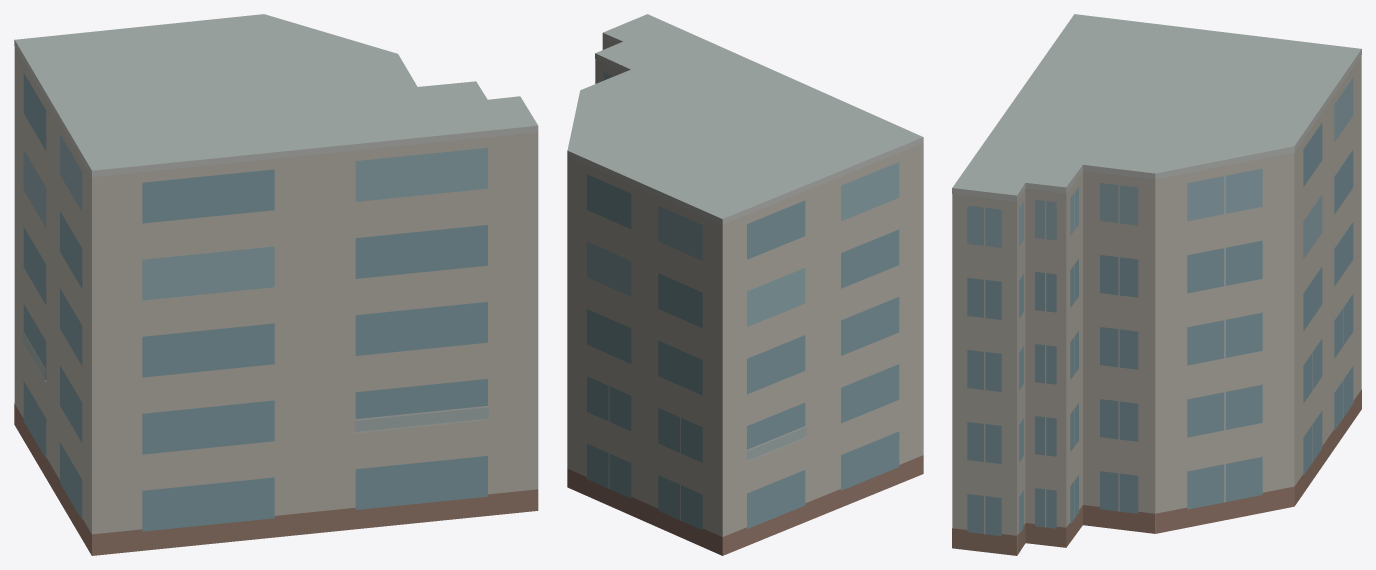
Rendered from survey-upis-32880229.glb.
The picture shows the model from 3 angles, left to right: view 1: azimuth 30°, elevation 25°; view 2: azimuth 150°, elevation 25°; view 3: azimuth 270°, elevation 25°; orthographic projection. The views are drawn at different scales.
Visible parts, largest first — view 1: survey-upis-32880229.tmp; view 2: survey-upis-32880229.tmp; view 3: survey-upis-32880229.tmp.
Part boxes in pixels (left/top/right/bottom): survey-upis-32880229.tmp: left=14, top=14, right=538, bottom=555; survey-upis-32880229.tmp: left=567, top=14, right=923, bottom=555; survey-upis-32880229.tmp: left=952, top=14, right=1361, bottom=555.
Bounding box in the file's own units: 15.9 × 14.7 × 15.16.
